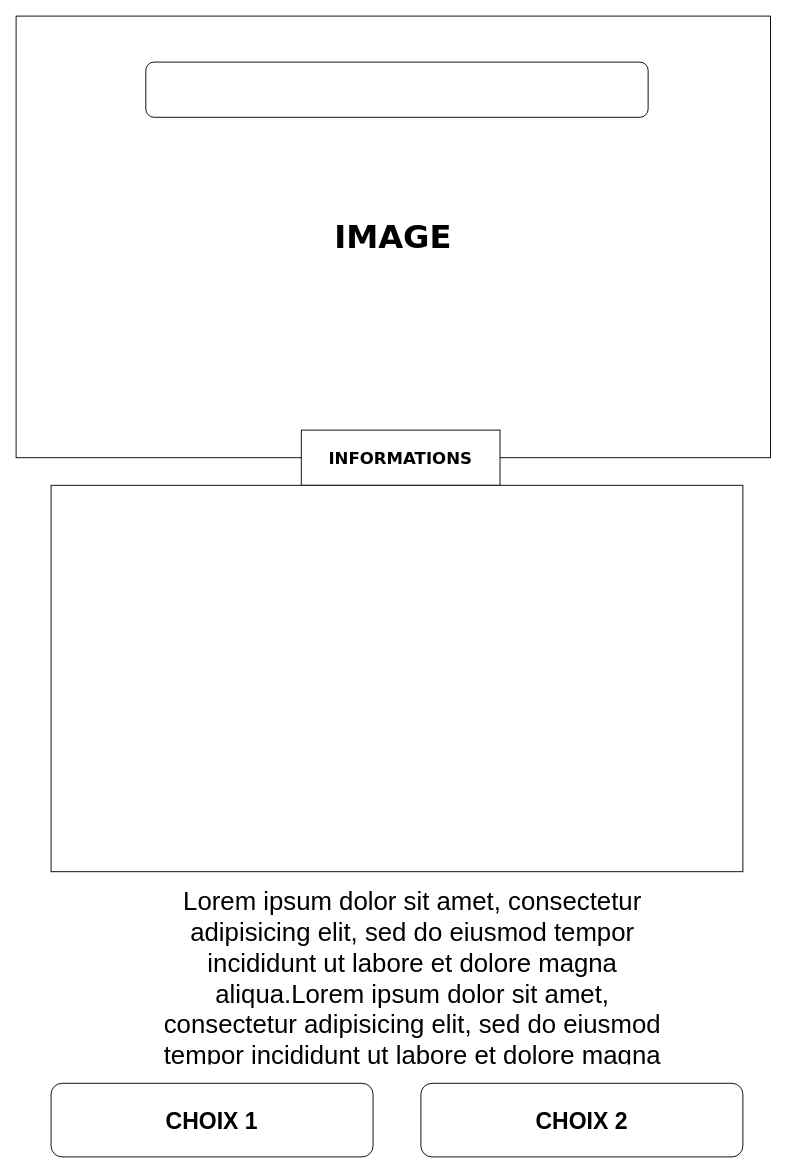
Some shapes in this 787 by 1173 pixel diagram are drawn without their labels. Each missing label, with the centre of its shape:
IMAGE CHOIX: [396,678]
TITRE: [396,89]
